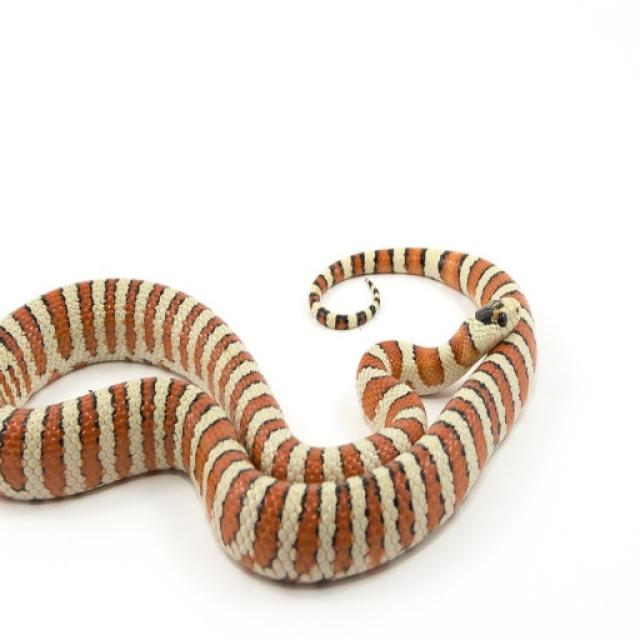snake: (0, 225, 557, 602)
